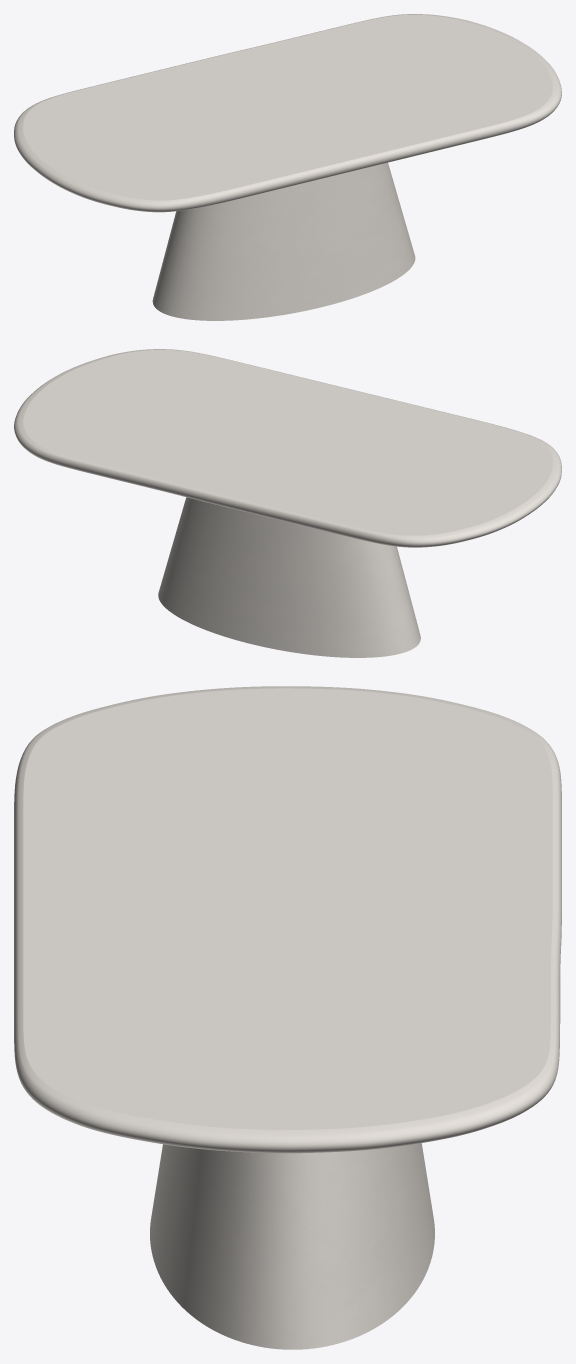
The model's file is pearlwhite_oval_round_eqone.glb.
3 renders of one model, top to bottom at view 1: azimuth 30°, elevation 25°; view 2: azimuth 150°, elevation 25°; view 3: azimuth 270°, elevation 25°, orthographic. The views are drawn at different scales.
Visible parts, largest first — view 1: round_oval, eqone; view 2: round_oval, eqone; view 3: round_oval, eqone.
Part boxes in pixels (<box>): round_oval: <box>14,14,561,212</box>; eqone: <box>152,162,415,320</box>; round_oval: <box>14,349,561,547</box>; eqone: <box>158,497,420,657</box>; round_oval: <box>14,686,561,1153</box>; eqone: <box>150,1143,434,1349</box>.
Bounding box in the file's own units: 7.5 × 2.5 × 3.8.
1 material, 1 textured.
